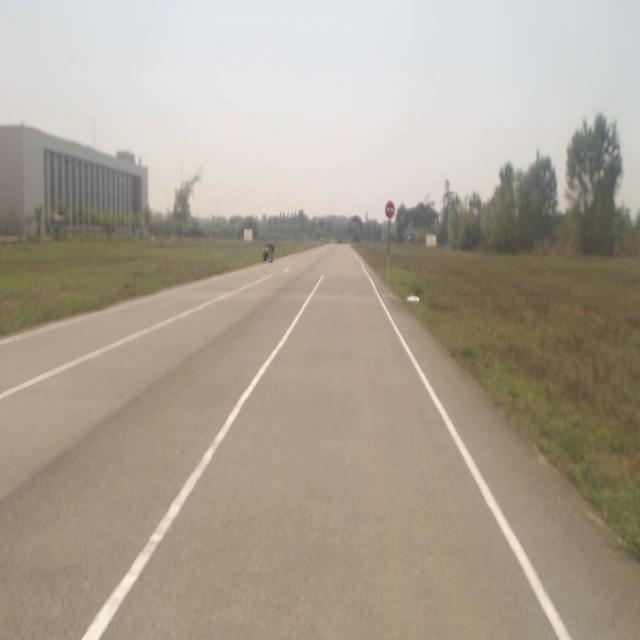girisyok: (386, 200, 396, 218)
